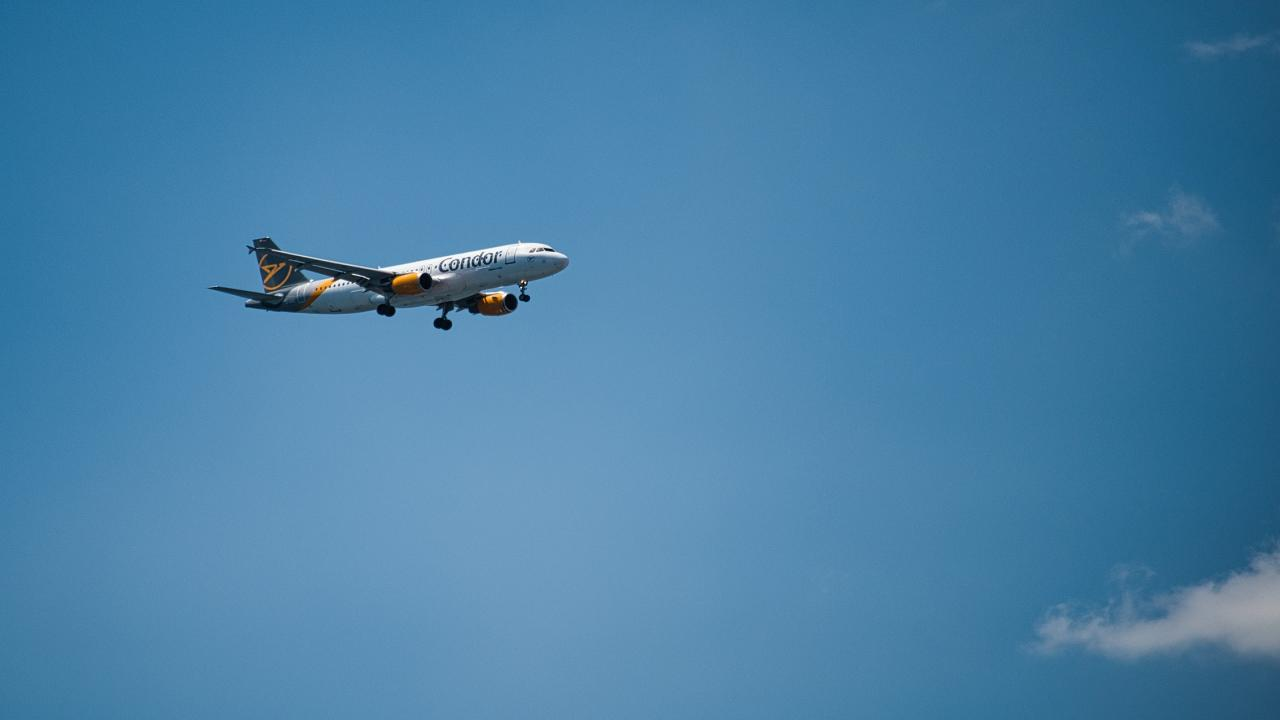Airplane: (192, 224, 580, 341)
